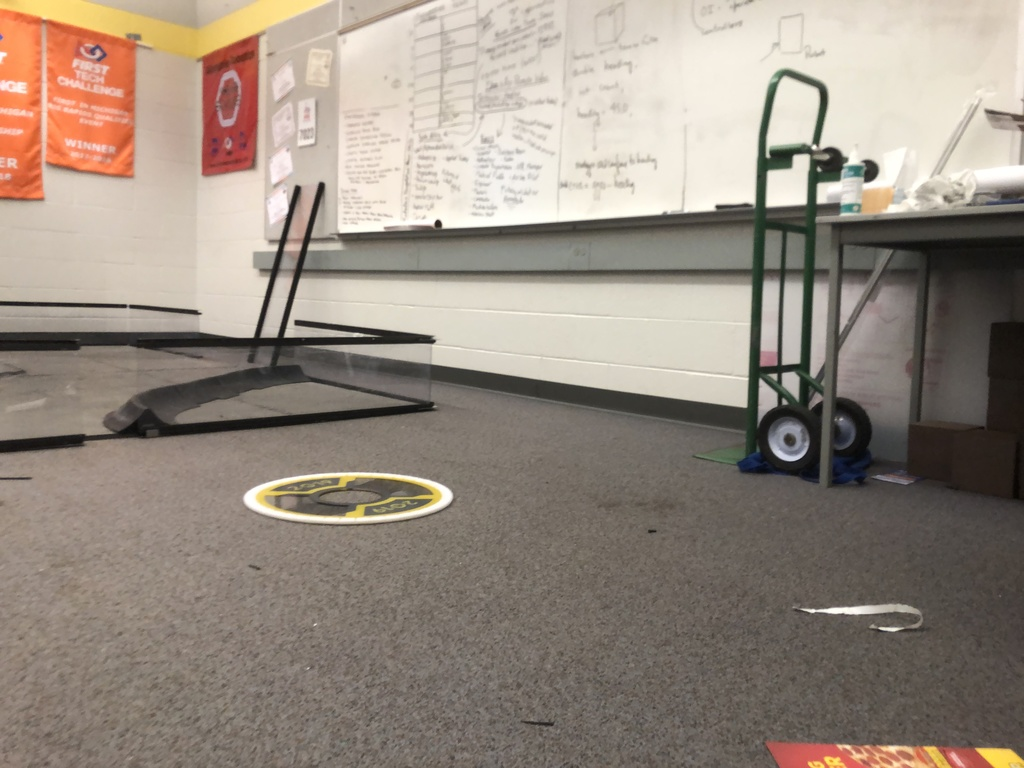hatch_panel: (234, 466, 458, 526)
